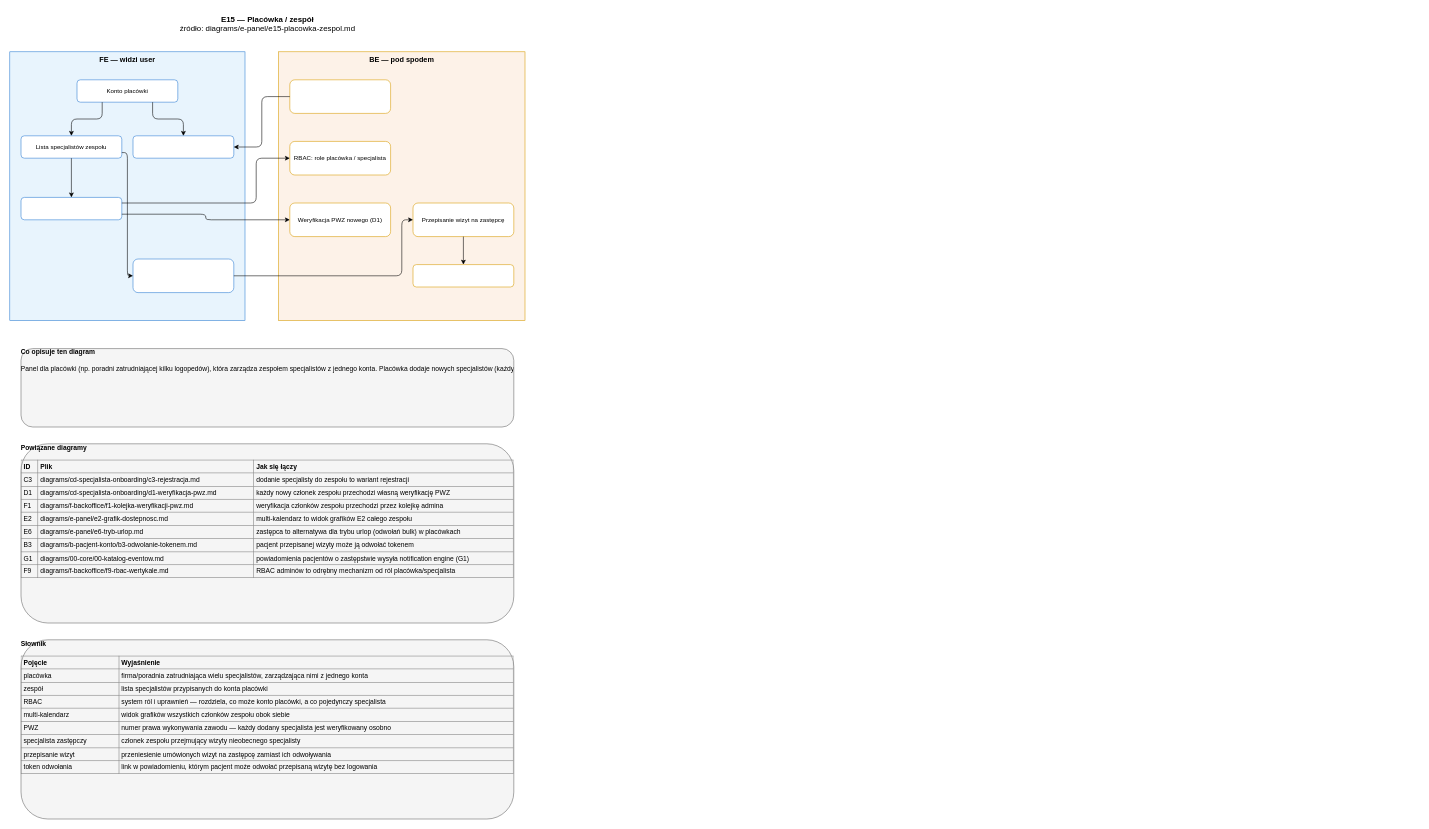
Some shapes in this 1429 by 829 pixel diagram are drawn without their labels. The shapes that lost their labels are listed below. From the top down, each one's box as (x1, y1, x2, y2) in pixels, then its label:
(289, 79, 391, 113): Multi-kalendarz: grafiki E2 zespołu
(132, 135, 234, 158): Widok multi-kalendarz
(20, 197, 122, 220): Dodaj specjalistę do zespołu
(132, 258, 234, 293): Wyznacz specjalistę zastępczego
(412, 264, 514, 287): Powiadomienie pacjentów (G1)
